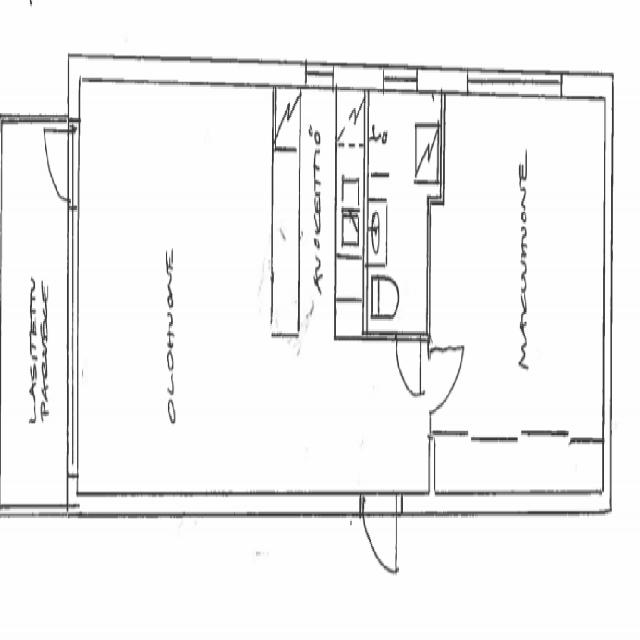door: (36, 129, 79, 201), (364, 490, 396, 580), (426, 349, 458, 410), (396, 331, 420, 393)
